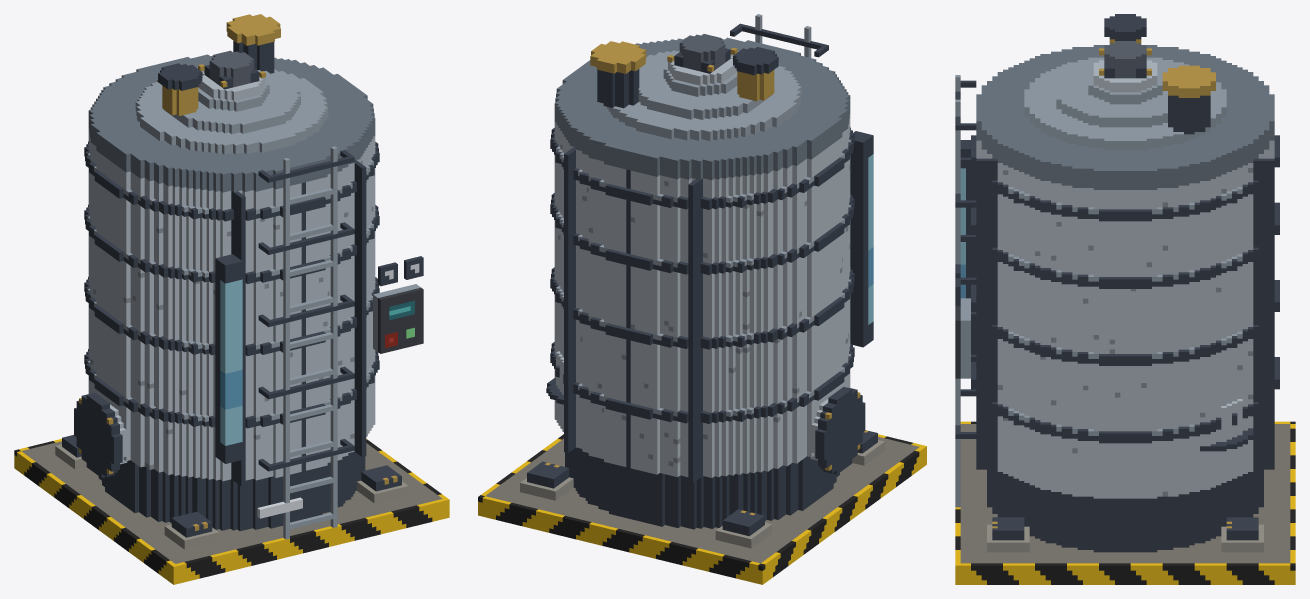
The model's file is water_tank.obj.
3 renders of one model, left to right at view 1: azimuth 30°, elevation 25°; view 2: azimuth 150°, elevation 25°; view 3: azimuth 270°, elevation 25°, orthographic. The views are drawn at different scales.
Parts seen in each view (by area): view 1: water_tank; view 2: water_tank; view 3: water_tank.
Part boxes in pixels (left/top/right/bottom): water_tank: left=14, top=14, right=449, bottom=584; water_tank: left=478, top=14, right=926, bottom=584; water_tank: left=955, top=14, right=1295, bottom=584.
Size of the model in its own units: 2 by 3 by 2.
